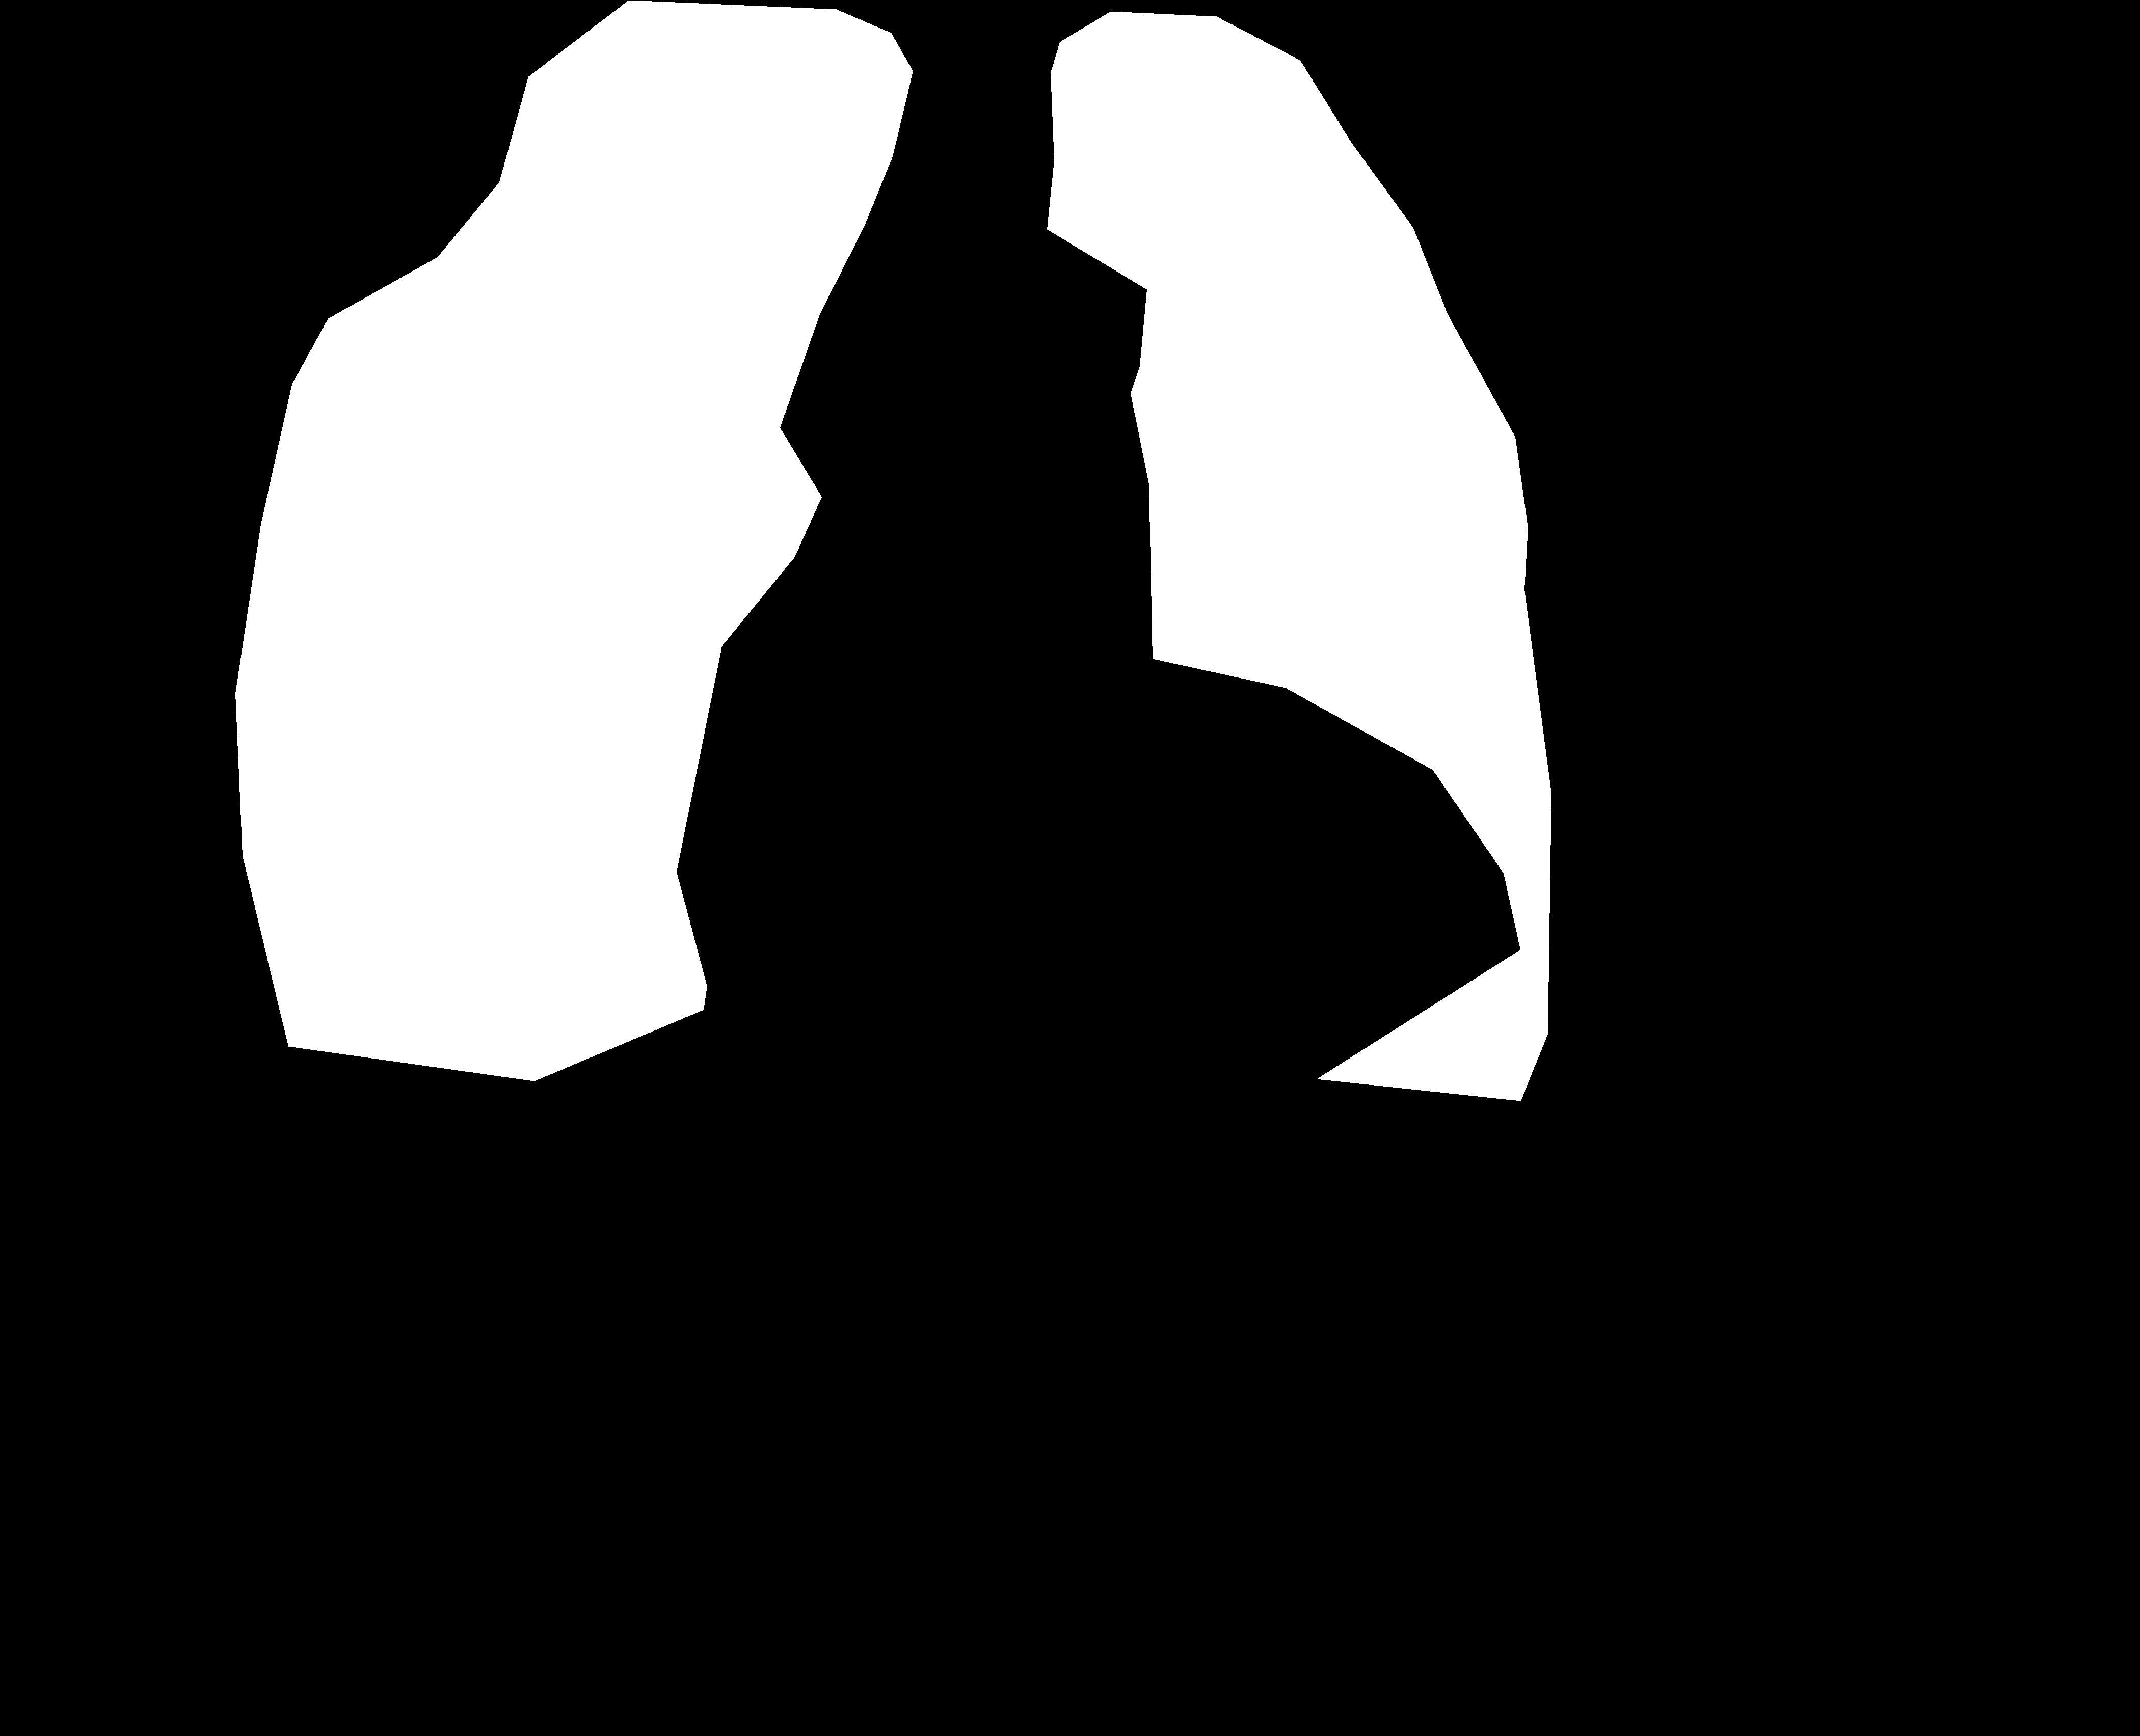heart: (686, 423, 1511, 1073)
left_lung: (236, 0, 912, 1081)
right_lung: (1047, 11, 1552, 1100)
